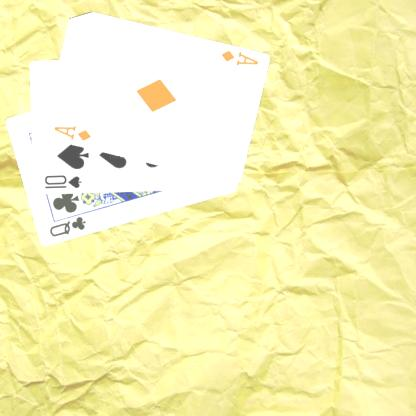10S: (41, 173, 83, 190)
AD: (51, 123, 92, 142), (218, 48, 259, 67)
QC: (47, 214, 88, 239)
